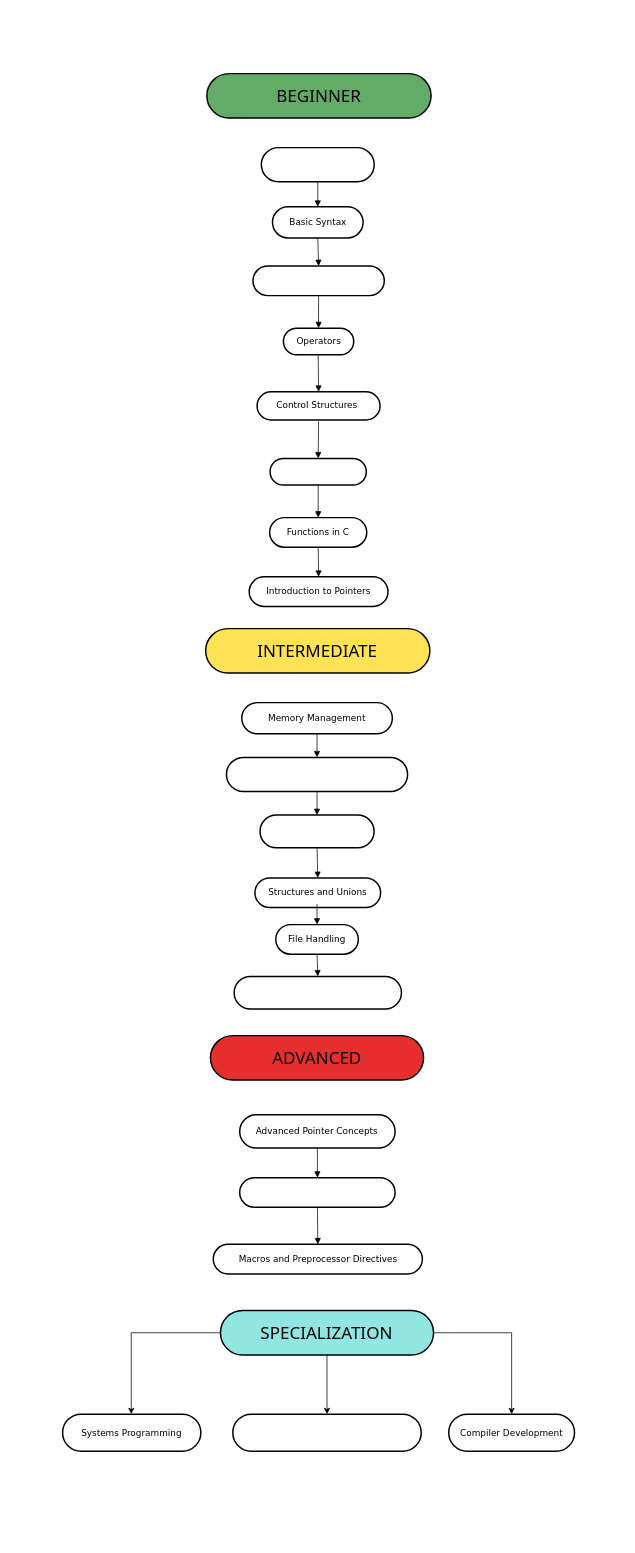
Image size: 635x1553. Some labels were removed from this diagram. The centre of each missing label's shape, as x and y in pixels:
Advanced Functions and Recursions: the point at 316,774
Arrays and Strings: the point at 316,831
Data Structures: the point at 318,471
Data Structures in C: the point at 317,1192
Data Types and Variables: the point at 318,280
Dynamic Memory Allocation: the point at 317,992
Introduction to C: the point at 317,164
Network Programming and Security: the point at 327,1432
